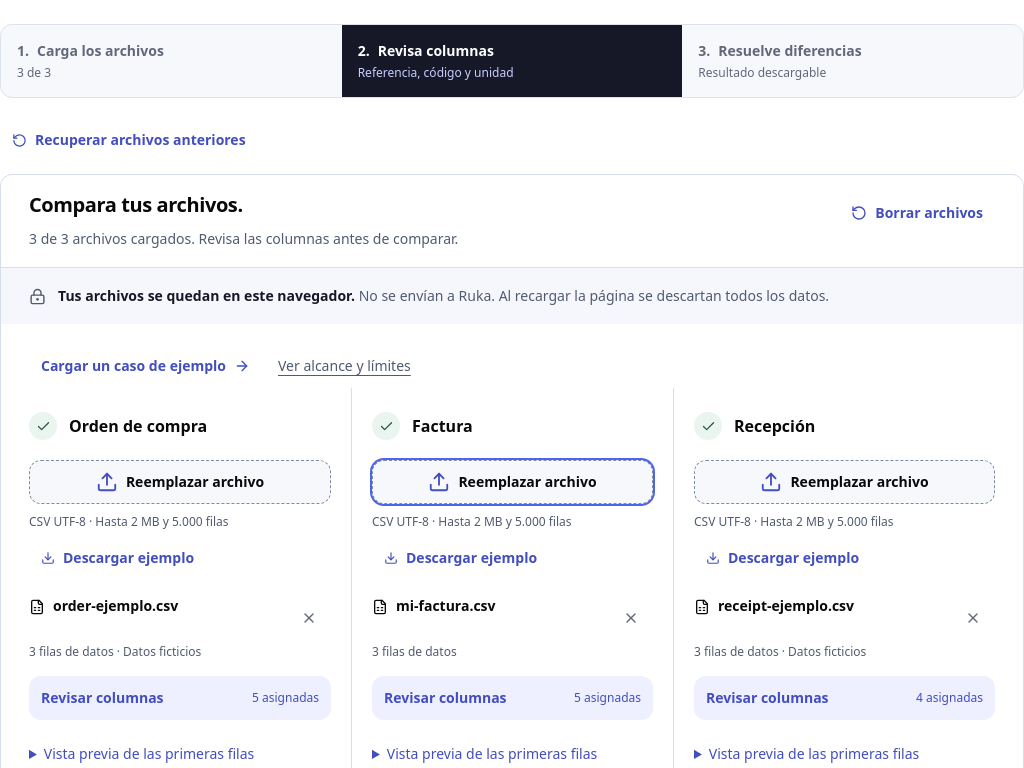
Scenario: local-file reconciliation UI › blocks comparing real files against leftover sample documents
The image size is (1024, 768).
Earlier steps of the test are not shown.
Click the button "Cargar un caso de ejemplo": (146, 366) x1=29 y1=344 x2=262 y2=388
(page scrolled)
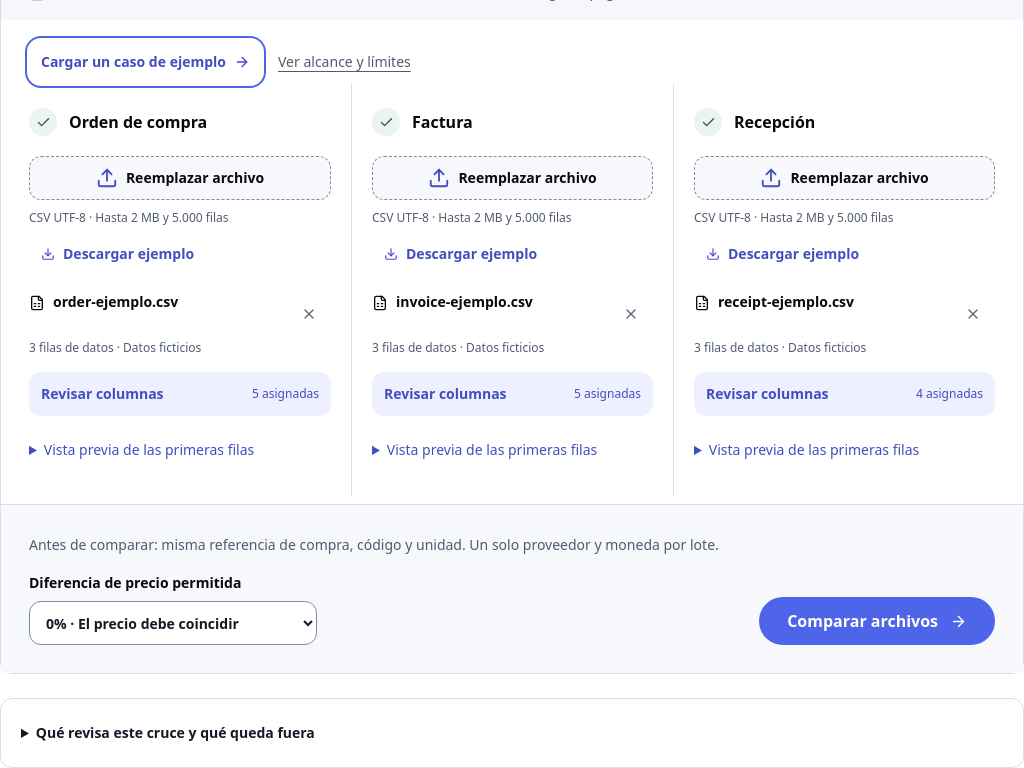
Result: the button "Comparar archivos" is enabled at x1=759 y1=597 x2=995 y2=645
